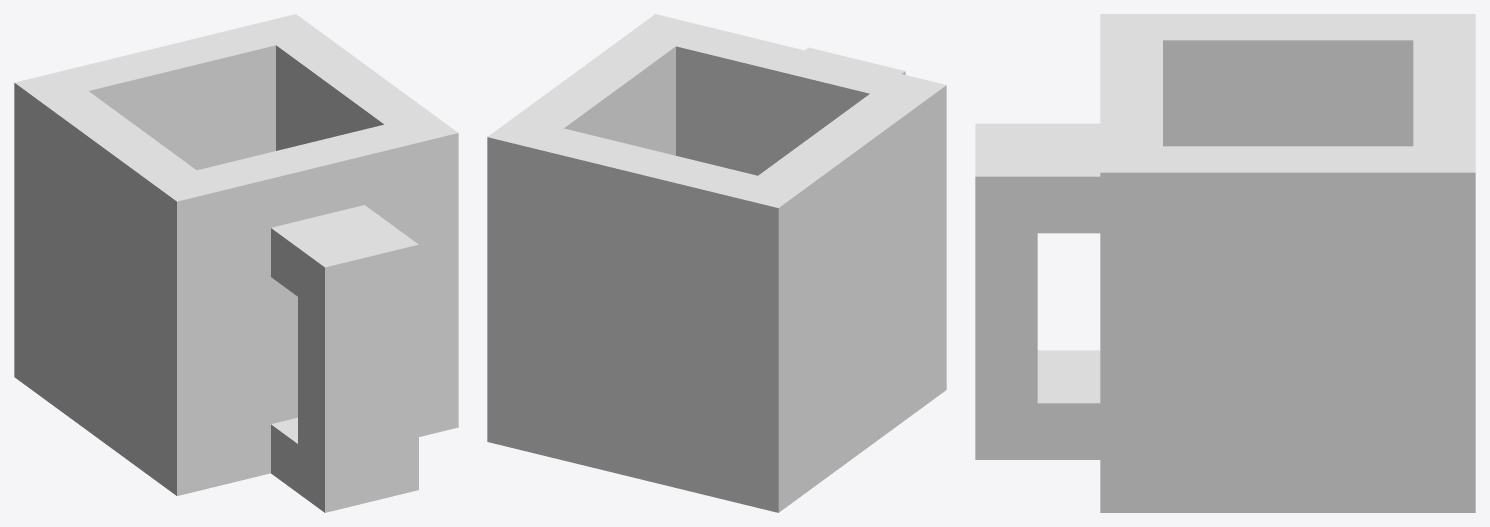
The model's file is CupWhite_with_water.obj.
3 renders of one model, left to right at view 1: azimuth 30°, elevation 25°; view 2: azimuth 150°, elevation 25°; view 3: azimuth 270°, elevation 25°, orthographic. The views are drawn at different scales.
Size of the model in its own units: 0.6 by 0.6 by 0.8.
1 material, 1 textured.
